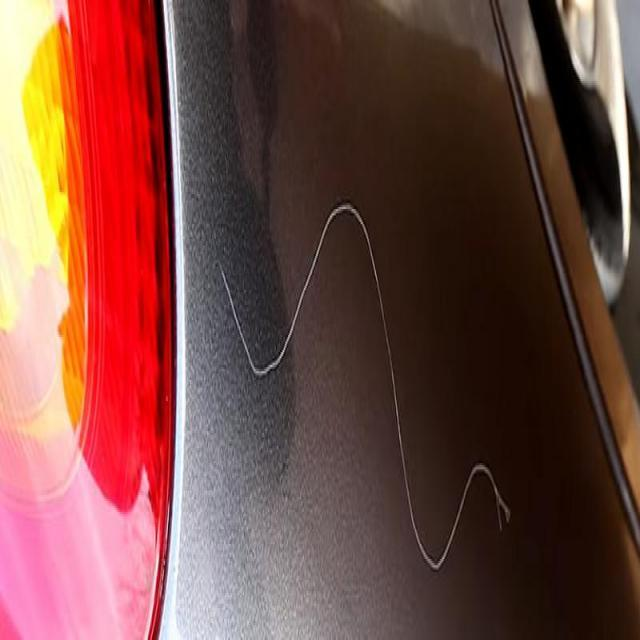scratch: (208, 185, 514, 590)
